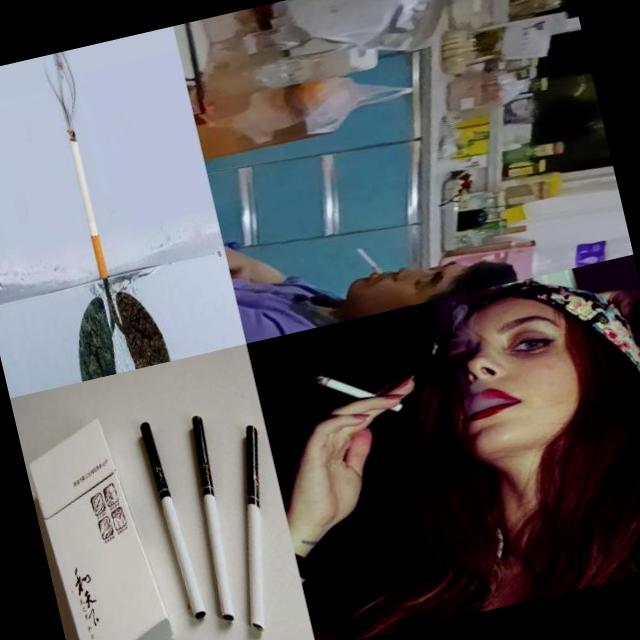smoke: (272, 356, 424, 530), (206, 422, 302, 634), (176, 414, 248, 623), (138, 418, 208, 623), (65, 126, 108, 279), (356, 244, 383, 278)
